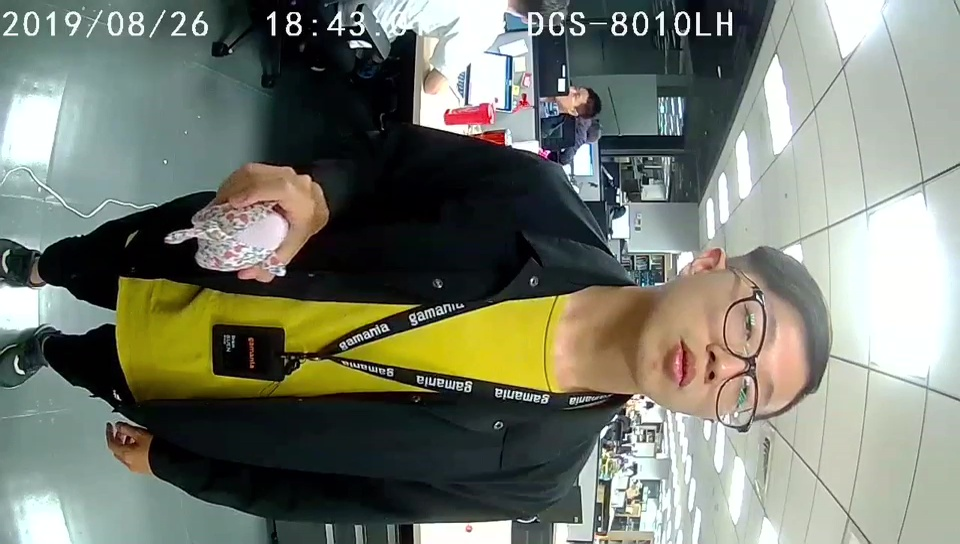pig: (192, 199, 288, 278)
